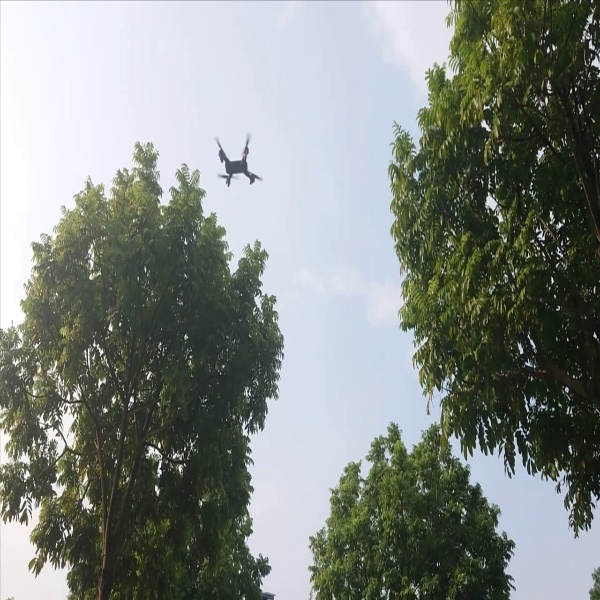drone: (205, 131, 264, 194)
